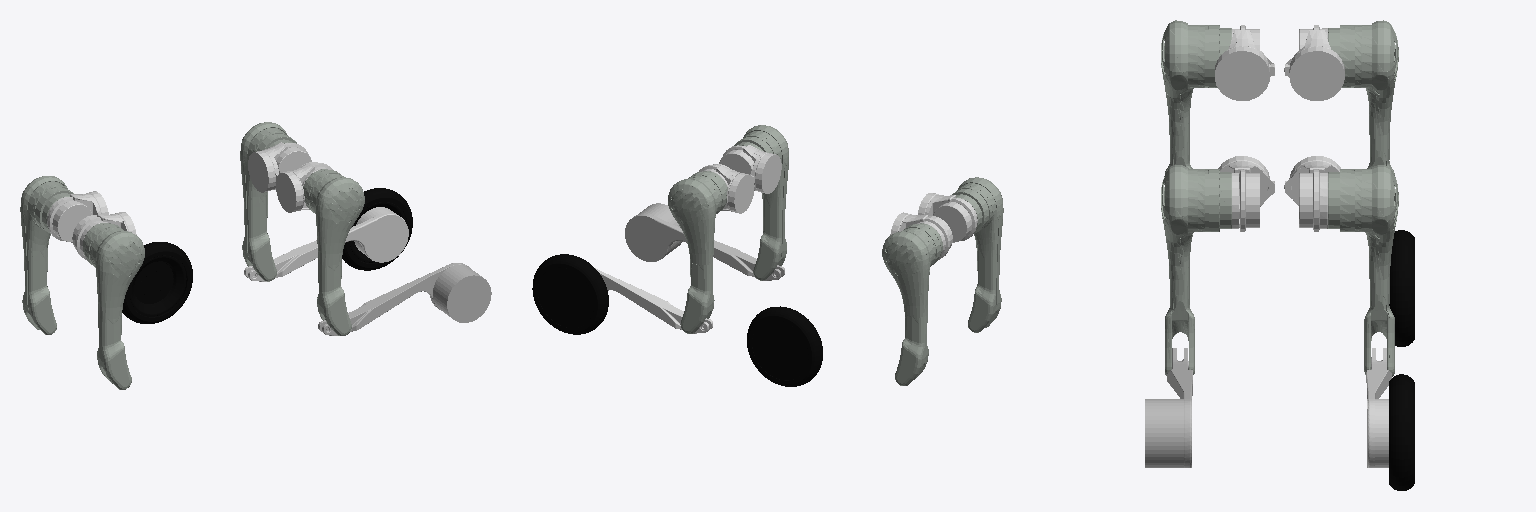
The robot description file, URDF, robot "b2w_description":
<?xml version='1.0' encoding='utf-8'?>
<robot name="b2w_description">
  <link name="base">
    <inertial>
      <origin xyz="0.000458 0.005261 0.000665" rpy="0 0 0" />
      <mass value="35.606" />
      <inertia ixx="0.27466" ixy="-0.000622" ixz="0.00315" iyy="1.0618" iyz="-0.00139" izz="1.1825" />
    </inertial>
    <visual>
      <origin xyz="0 0 0" rpy="0 0 0" />
      <geometry>
        <mesh filename="../meshes/base.stl" />
      </geometry>
      <material name="白色logo_019-effect"><color rgba="1 1 1 1" /></material><material name="材质_041-effect"><color rgba="0 0 0 1" /></material><material name="磨砂铝合金_033-effect"><color rgba="0.85 0.85 0.85 1" /></material><material name="材质_044-effect"><color rgba="0.07323546 0.07323546 0.07323546 1" /></material><material name="材质_042-effect"><color rgba="0 0 0 1" /></material><material name="材质_040-effect"><color rgba="0 0 0 1" /></material><material name="材质_043-effect"><color rgba="0 0 0 1" /></material></visual>
    <collision>
      <origin xyz="0 0 0" rpy="0 0 0" />
        <geometry>
          <box size="0.5 0.28 0.15" />
        </geometry>
    </collision>
  </link>
  <link name="lidar_link">
    <inertial>
      <origin xyz="0.34218 0 0.17851" rpy="0 0 0" />
      <mass value="4.19E-15" />
      <inertia ixx="1.68E-27" ixy="-3.2E-45" ixz="7.68E-44" iyy="1.68E-27" iyz="-9.26E-47" izz="1.68E-27" />
    </inertial>
    <collision>
      <origin xyz="0 0 -0.02" rpy="0 0 0" />
      <geometry>
        <cylinder length="0.16" radius="0.076" />
      </geometry>
    </collision>
  </link>
  <joint name="joint_lidar" type="fixed">
    <origin xyz="0.34218 0 0.17851" rpy="0 0 0" />
    <parent link="base" />
    <child link="lidar_link" />
    <axis xyz="0 0 0" />
  </joint>
  <link name="f_dc_link">
    <inertial>
      <origin xyz="3.47E-18 0 5.55E-17" rpy="0 0 0" />
      <mass value="4.19E-15" />
      <inertia ixx="1.68E-27" ixy="-9.81E-45" ixz="-2.54E-44" iyy="1.68E-27" iyz="0" izz="1.68E-27" />
    </inertial>
  </link>
  <joint name="joint_f_dc" type="fixed">
    <origin xyz="0.42161 0.025 0.061851" rpy="-2.3562 0 -1.5708" />
    <parent link="base" />
    <child link="f_dc_link" />
    <axis xyz="0 0 0" />
  </joint>
  <link name="r_dc_link">
    <inertial>
      <origin xyz="-7.46E-16 -3.33E-16 -1.11E-15" rpy="0 0 0" />
      <mass value="4.19E-15" />
      <inertia ixx="1.68E-27" ixy="-4.31E-44" ixz="2.48E-45" iyy="1.68E-27" iyz="0" izz="1.68E-27" />
    </inertial>
  </link>
  <joint name="joint_r_dc" type="fixed">
    <origin xyz="-0.42244 -0.025 0.038026" rpy="-2.3562 0 1.5708" />
    <parent link="base" />
    <child link="r_dc_link" />
    <axis xyz="0 0 0" />
  </joint>
  <link name="imu_link">
    <inertial>
      <origin xyz="-2.02E-17 1.73E-17 -1.39E-17" rpy="0 0 0" />
      <mass value="4.19E-15" />
      <inertia ixx="1.68E-27" ixy="1.84E-44" ixz="-7.35E-44" iyy="1.68E-27" iyz="-3.67E-44" izz="1.68E-27" />
    </inertial>
  </link>
  <joint name="joint_imu" type="fixed">
    <origin xyz="0 -0.02341 0.04927" rpy="0 0 0" />
    <parent link="base" />
    <child link="imu_link" />
    <axis xyz="0 0 0" />
  </joint>
  <link name="head_Link">
    <inertial>
      <origin xyz="0.33989 -0.000168 0.12029" rpy="0 0 0" />
      <mass value="3.6885" />
      <inertia ixx="0.026455" ixy="3.15E-05" ixz="0.00166" iyy="0.029221" iyz="-3.27E-05" izz="0.010918" />
    </inertial>
    <collision>
      <origin xyz="0.41 0 0.005" rpy="0 0 0" />
      <geometry>
        <box size="0.025 0.12 0.14" />
      </geometry>
    </collision>
  </link>
  <joint name="joint_head" type="fixed" dont_collapse="true">
    <origin xyz="0 0 0" rpy="0 0 0" />
    <parent link="base" />
    <child link="head_Link" />
    <axis xyz="0 0 0" />
  </joint>
  <link name="tail_link">
    <inertial>
      <origin xyz="-0.37448 0.000488 0.006495" rpy="0 0 0" />
      <mass value="0.795" />
      <inertia ixx="0.0028118" ixy="1.95E-05" ixz="-7.87E-06" iyy="0.0047506" iyz="-1.57E-05" izz="0.0029154" />
    </inertial>
    <collision>
      <origin xyz="-0.405 0 0.005" rpy="0 0 0" />
      <geometry>
        <box size="0.025 0.12 0.14" />
      </geometry>
    </collision>
  </link>
  <joint name="joint_tail" type="fixed" dont_collapse="true">
    <origin xyz="0 0 0" rpy="0 0 0" />
    <parent link="base" />
    <child link="tail_link" />
    <axis xyz="0 0 0" />
  </joint>
  <link name="FL_hip">
    <inertial>
      <origin xyz="-0.003841 -0.009068 0" rpy="0 0 0" />
      <mass value="2.673" />
      <inertia ixx="0.0033188" ixy="7.16E-05" ixz="-3.77E-07" iyy="0.0048743" iyz="4E-09" izz="0.0037087" />
    </inertial>
    <visual>
      <origin xyz="0 0 0" rpy="0 0 0" />
      <geometry>
        <mesh filename="../meshes/FL_hip.stl" />
      </geometry>
      <material name="磨砂铝合金_008-effect"><color rgba="0.85 0.85 0.85 1" /></material></visual>
    <collision>
      <origin xyz="0 0.12 0" rpy="1.5707963267948966 0 0" />
      <geometry>
        <cylinder length="0.05" radius="0.07" />
      </geometry>
    </collision>
  </link>
  <joint name="FL_hip_joint" type="revolute">
    <origin xyz="0.3285 0.072 0" rpy="0 0 0" />
    <parent link="base" />
    <child link="FL_hip" />
    <axis xyz="1 0 0" />
    <limit lower="-0.87" upper="0.87" effort="200" velocity="23" />
  </joint>
  <link name="FL_thigh">
    <inertial>
      <origin xyz="-0.006279 -0.032049 -0.057835" rpy="0 0 0" />
      <mass value="4.536" />
      <inertia ixx="0.062299" ixy="0.00087781" ixz="-0.0036475" iyy="0.061399" iyz="0.0083537" izz="0.0081997" />
    </inertial>
    <visual>
      <origin xyz="0 0 0" rpy="0 0 0" />
      <geometry>
        <mesh filename="../meshes/FL_thigh.stl" />
      </geometry>
      <material name="磨砂铝合金_008-effect"><color rgba="0.85 0.85 0.85 1" /></material><material name="灰色硅胶_009-effect"><color rgba="0.6500053 0.68 0.6500053 1" /></material></visual>
    <collision>
      <origin xyz="-0.025 0 -0.16" rpy="0 1.57 0" />
      <geometry>
        <box size="0.32 0.0445 0.054" />
      </geometry>
    </collision>
  </link>
  <joint name="FL_thigh_joint" type="revolute">
    <origin xyz="0 0.11973 0" rpy="0 0 0" />
    <parent link="FL_hip" />
    <child link="FL_thigh" />
    <axis xyz="0 1 0" />
    <limit lower="-0.94" upper="4.69" effort="200" velocity="23" />
  </joint>
  <link name="FL_calf">
    <inertial>
      <origin xyz="0.005278 0.017301 -0.29778" rpy="0 0 0" />
      <mass value="2.2906" />
      <inertia ixx="0.029283" ixy="0.000221" ixz="-0.001064" iyy="0.030868" iyz="0.002093" izz="0.00326" />
    </inertial>
    <visual>
      <origin xyz="0 0 0" rpy="0 0 0" />
      <geometry>
        <mesh filename="../meshes/FL_calf.stl" />
      </geometry>
      <material name="磨砂铝合金_008-effect"><color rgba="0.85 0.85 0.85 1" /></material></visual>
    <collision>
      <origin xyz="0 0 0" rpy="0 0 0" />
      <geometry>
        <mesh filename="../meshes/FL_calf.stl" />
      </geometry>
    </collision>
  </link>
  <joint name="FL_calf_joint" type="revolute">
    <origin xyz="0 -8.8203E-05 -0.35" rpy="0 0 0" />
    <parent link="FL_thigh" />
    <child link="FL_calf" />
    <axis xyz="0 1 0" />
    <limit lower="-2.82" upper="-0.43" effort="320" velocity="14" />
  </joint>
  <link name="FL_foot">
    <inertial>
      <origin xyz="-0.000991 0.051053 -0.00113" rpy="0 0 0" />
      <mass value="1.083" />
      <inertia ixx="0.004121" ixy="6E-06" ixz="-4.8E-05" iyy="0.007776" iyz="7E-06" izz="0.004108" />
    </inertial>
    <visual>
      <origin xyz="0 0 0" rpy="0 0 0" />
      <geometry>
        <mesh filename="../meshes/Left_wheel.stl" />
      </geometry>
      <material name="silicone-effect"><color rgba="0.073 0.073 0.073 1" /></material></visual>
    <collision>
      <origin xyz="0 0 0" rpy="0 0 0" />
      <geometry>
        <mesh filename="../meshes/Left_wheel.stl" />
      </geometry>
    </collision>
  </link>
  <joint name="FL_foot_joint" type="revolute">
    <origin xyz="0 0 -0.35" rpy="0 0 0" />
    <parent link="FL_calf" />
    <child link="FL_foot" />
    <axis xyz="0 1 0" />
    <limit lower="-999999" upper="999999" effort="20" velocity="50" />
  </joint>
  <link name="FR_hip">
    <inertial>
      <origin xyz="-0.003841 0.009068 0" rpy="0 0 0" />
      <mass value="2.673" />
      <inertia ixx="0.003318772" ixy="-7.16E-05" ixz="-3.77E-07" iyy="0.004874327" iyz="-4E-09" izz="0.003708731" />
    </inertial>
    <visual>
      <origin xyz="0 0 0" rpy="0 0 0" />
      <geometry>
        <mesh filename="../meshes/FR_hip.stl" />
      </geometry>
      <material name="磨砂铝合金_008-effect"><color rgba="0.85 0.85 0.85 1" /></material></visual>
    <collision>
      <origin xyz="0 -0.12 0" rpy="1.5707963267948966 0 0" />
      <geometry>
        <cylinder length="0.05" radius="0.07" />
      </geometry>
    </collision>
  </link>
  <joint name="FR_hip_joint" type="revolute">
    <origin xyz="0.3285 -0.072 0" rpy="0 0 0" />
    <parent link="base" />
    <child link="FR_hip" />
    <axis xyz="1 0 0" />
    <limit lower="-0.87" upper="0.87" effort="200" velocity="23" />
  </joint>
  <link name="FR_thigh">
    <inertial>
      <origin xyz="-0.006279 0.032049 -0.057835" rpy="0 0 0" />
      <mass value="4.536" />
      <inertia ixx="0.06229908" ixy="-0.000877808" ixz="-0.003647464" iyy="0.06139927" iyz="-0.008353671" izz="0.008199745" />
    </inertial>
    <visual>
      <origin xyz="0 0 0" rpy="0 0 0" />
      <geometry>
        <mesh filename="../meshes/FR_thigh.stl" />
      </geometry>
      <material name="磨砂铝合金_008-effect"><color rgba="0.85 0.85 0.85 1" /></material><material name="灰色硅胶_009-effect"><color rgba="0.6500053 0.68 0.6500053 1" /></material></visual>
    <collision>
      <origin rpy="0 1.57 0" xyz="-0.03 0 -0.2" />
      <geometry>
        <box size="0.25 0.028 0.04" />
      </geometry>
    </collision>
  </link>
  <joint name="FR_thigh_joint" type="revolute">
    <origin xyz="0 -0.11973 0" rpy="0 0 0" />
    <parent link="FR_hip" />
    <child link="FR_thigh" />
    <axis xyz="0 1 0" />
    <limit lower="-0.94" upper="4.69" effort="200" velocity="23" />
  </joint>
  <link name="FR_calf">
    <inertial>
      <origin xyz="0.005278 -0.017301 -0.297775" rpy="0 0 0" />
      <mass value="2.290557" />
      <inertia ixx="0.029283" ixy="-0.000221" ixz="-0.001064" iyy="0.030868" iyz="-0.002093" izz="0.00326" />
    </inertial>
    <visual>
      <origin xyz="0 0 0" rpy="0 0 0" />
      <geometry>
        <mesh filename="../meshes/FR_calf.stl" />
      </geometry>
      <material name="磨砂铝合金_031-effect"><color rgba="0.7487598 0.7487598 0.7487598 1" /></material></visual>
    <collision>
      <origin xyz="0 0 0" rpy="0 0 0" />
      <geometry>
        <mesh filename="../meshes/FR_calf.stl" />
      </geometry>
    </collision>
  </link>
  <joint name="FR_calf_joint" type="revolute">
    <origin xyz="0 8.8205E-05 -0.35" rpy="0 0 0" />
    <parent link="FR_thigh" />
    <child link="FR_calf" />
    <axis xyz="0 1 0" />
    <limit lower="-2.82" upper="-0.43" effort="320" velocity="14" />
  </joint>
  <link name="FR_foot">
    <inertial>
      <origin xyz="-0.000991 -0.051053 -0.00113" rpy="0 0 0" />
      <mass value="1.083" />
      <inertia ixx="0.004121" ixy="-6E-06" ixz="-4.8E-05" iyy="0.007776" iyz="-7E-06" izz="0.004108" />
    </inertial>
    <visual>
      <origin xyz="0.0 -0.0 0" rpy="0 -1.5708 0" />
      <geometry>
        <mesh filename="../meshes/Right_wheel.stl" />

        <!-- <cylinder radius="0.112" length="0.05"/>  -->
 
      </geometry>
      <material name="silicone-effect"><color rgba="0.073 0.073 0.073 1" /></material></visual>
    <collision>
      <origin xyz="0.0 -0.0 0" rpy="0 -1.5708 0" />
      <geometry>
        <mesh filename="../meshes/Right_wheel.stl" />

        <!-- <cylinder radius="0.112" length="0.05"/>  -->
 
      </geometry>
    </collision>
  </link>
  <joint name="FR_foot_joint" type="revolute">
    <origin xyz="0 -0.001 -0.35" rpy="0 0 0" />
    <parent link="FR_calf" />
    <child link="FR_foot" />
    <axis xyz="0 1 0" />
    <limit lower="-999999" upper="999999" effort="20" velocity="50" />
  </joint>
  <link name="RL_hip">
    <inertial>
      <origin xyz="0.003841 -0.009068 0" rpy="0 0 0" />
      <mass value="2.673" />
      <inertia ixx="0.0033188" ixy="-7.16E-05" ixz="3.77E-07" iyy="0.0048743" iyz="4E-09" izz="0.0037087" />
    </inertial>
    <visual>
      <origin xyz="0 0 0" rpy="0 0 0" />
      <geometry>
        <mesh filename="../meshes/RL_hip.stl" />
      </geometry>
      <material name="磨砂铝合金_008-effect"><color rgba="0.85 0.85 0.85 1" /></material></visual>
    <collision>
      <origin xyz="0 0.12 0" rpy="1.5707963267948966 0 0" />
      <geometry>
        <cylinder length="0.05" radius="0.07" />
      </geometry>
    </collision>
  </link>
  <joint name="RL_hip_joint" type="revolute">
    <origin xyz="-0.3285 0.072 0" rpy="0 0 0" />
    <parent link="base" />
    <child link="RL_hip" />
    <axis xyz="1 0 0" />
    <limit lower="-0.87" upper="0.87" effort="200" velocity="23" />
  </joint>
  <link name="RL_thigh">
    <inertial>
      <origin xyz="-0.006279 -0.032049 -0.057835" rpy="0 0 0" />
      <mass value="4.536" />
      <inertia ixx="0.06229908" ixy="0.000877808" ixz="-0.003647464" iyy="0.06139927" iyz="0.008353671" izz="0.008199745" />
    </inertial>
    <visual>
      <origin xyz="0 0 0" rpy="0 0 0" />
      <geometry>
        <mesh filename="../meshes/RL_thigh.stl" />
      </geometry>
      <material name="磨砂铝合金_008-effect"><color rgba="0.85 0.85 0.85 1" /></material><material name="灰色硅胶_009-effect"><color rgba="0.6500053 0.68 0.6500053 1" /></material></visual>
    <collision>
      <origin rpy="0 1.57 0" xyz="-0.03 0 -0.2" />
      <geometry>
        <box size="0.25 0.028 0.04" />
      </geometry>
    </collision>
  </link>
  <joint name="RL_thigh_joint" type="revolute">
    <origin xyz="0 0.11973 0" rpy="0 0 0" />
    <parent link="RL_hip" />
    <child link="RL_thigh" />
    <axis xyz="0 1 0" />
    <limit lower="-0.94" upper="4.69" effort="200" velocity="23" />
  </joint>
  <link name="RL_calf">
    <inertial>
      <origin xyz="0.005278 0.017301 -0.29778" rpy="0 0 0" />
      <mass value="2.2906" />
      <inertia ixx="0.029283" ixy="0.000221" ixz="-0.001064" iyy="0.030868" iyz="0.002093" izz="0.00326" />
    </inertial>
    <visual>
      <origin xyz="0 0 0" rpy="0 0 0" />
      <geometry>
        <mesh filename="../meshes/RL_calf.stl" />
      </geometry>
      <material name="磨砂铝合金_008-effect"><color rgba="0.85 0.85 0.85 1" /></material></visual>
    <collision>
      <origin xyz="0 0 0" rpy="0 0 0" />
      <geometry>
        <mesh filename="../meshes/RL_calf.stl" />
      </geometry>
    </collision>
  </link>
  <joint name="RL_calf_joint" type="revolute">
    <origin xyz="0 -8.8205E-05 -0.35" rpy="0 0 0" />
    <parent link="RL_thigh" />
    <child link="RL_calf" />
    <axis xyz="0 1 0" />
    <limit lower="-2.82" upper="-0.43" effort="320" velocity="14" />
  </joint>
  <link name="RL_foot">
    <inertial>
      <origin xyz="-0.000991 0.051053 -0.00113" rpy="0 0 0" />
      <mass value="1.083" />
      <inertia ixx="0.004121" ixy="6E-06" ixz="-4.8E-05" iyy="0.007776" iyz="7E-06" izz="0.004108" />
    </inertial>
    <visual>
      <origin xyz="0 0 0" rpy="0 0 0" />
      <geometry>
        <mesh filename="../meshes/Left_wheel.stl" />
      </geometry>
      <material name="silicone-effect"><color rgba="0.073 0.073 0.073 1" /></material></visual>
    <collision>
      <origin xyz="0 0 0" rpy="0 0 0" />
      <geometry>
        <mesh filename="../meshes/Left_wheel.stl" />
      </geometry>
    </collision>
  </link>
  <joint name="RL_foot_joint" type="revolute">
    <origin xyz="0 0 -0.35" rpy="0 0 0" />
    <parent link="RL_calf" />
    <child link="RL_foot" />
    <axis xyz="0 1 0" />
    <limit lower="-999999" upper="999999" effort="20" velocity="50" />
  </joint>
  <link name="RR_hip">
    <inertial>
      <origin xyz="0.003841 0.009068 0" rpy="0 0 0" />
      <mass value="2.673" />
      <inertia ixx="0.0033188" ixy="7.16E-05" ixz="3.77E-07" iyy="0.0048743" iyz="-4E-09" izz="0.0037087" />
    </inertial>
    <visual>
      <origin xyz="0 0 0" rpy="0 0 0" />
      <geometry>
        <mesh filename="../meshes/RR_hip.stl" />
      </geometry>
      <material name="磨砂铝合金_008-effect"><color rgba="0.85 0.85 0.85 1" /></material></visual>
    <collision>
      <origin xyz="0 -0.12 0" rpy="1.5707963267948966 0 0" />
      <geometry>
        <cylinder length="0.05" radius="0.07" />
      </geometry>
    </collision>
  </link>
  <joint name="RR_hip_joint" type="revolute">
    <origin xyz="-0.3285 -0.072 0" rpy="0 0 0" />
    <parent link="base" />
    <child link="RR_hip" />
    <axis xyz="1 0 0" />
    <limit lower="-0.87" upper="0.87" effort="200" velocity="23" />
  </joint>
  <link name="RR_thigh">
    <inertial>
      <origin xyz="-0.006279 0.032049 -0.057835" rpy="0 0 0" />
      <mass value="4.536" />
      <inertia ixx="0.062299" ixy="-0.00087781" ixz="-0.0036475" iyy="0.061399" iyz="-0.0083537" izz="0.0081997" />
    </inertial>
    <visual>
      <origin xyz="0 0 0" rpy="0 0 0" />
      <geometry>
        <mesh filename="../meshes/RR_thigh.stl" />
      </geometry>
      <material name="磨砂铝合金_008-effect"><color rgba="0.85 0.85 0.85 1" /></material><material name="灰色硅胶_009-effect"><color rgba="0.6500053 0.68 0.6500053 1" /></material></visual>
    <collision>
      <origin rpy="0 1.57 0" xyz="-0.03 0 -0.2" />
      <geometry>
        <box size="0.25 0.028 0.04" />
      </geometry>
    </collision>
  </link>
  <joint name="RR_thigh_joint" type="revolute">
    <origin xyz="0 -0.11973 0" rpy="0 0 0" />
    <parent link="RR_hip" />
    <child link="RR_thigh" />
    <axis xyz="0 1 0" />
    <limit lower="-0.94" upper="4.69" effort="200" velocity="23" />
  </joint>
  <link name="RR_calf">
    <inertial>
      <origin xyz="0.005278 -0.017301 -0.29778" rpy="0 0 0" />
      <mass value="2.2906" />
      <inertia ixx="0.029283" ixy="-0.000221" ixz="-0.001064" iyy="0.030868" iyz="-0.002093" izz="0.00326" />
    </inertial>
    <visual>
      <origin xyz="0 0 0" rpy="0 0 0" />
      <geometry>
        <mesh filename="../meshes/RR_calf.stl" />
      </geometry>
      <material name="磨砂铝合金_031-effect"><color rgba="0.7487598 0.7487598 0.7487598 1" /></material></visual>
    <collision>
      <origin xyz="0 0 0" rpy="0 0 0" />
      <geometry>
        <mesh filename="../meshes/RR_calf.stl" />
      </geometry>
    </collision>
  </link>
  <joint name="RR_calf_joint" type="revolute">
    <origin xyz="0 8.8205E-05 -0.35" rpy="0 0 0" />
    <parent link="RR_thigh" />
    <child link="RR_calf" />
    <axis xyz="0 1 0" />
    <limit lower="-2.82" upper="-0.43" effort="320" velocity="14" />
  </joint>
  <link name="RR_foot">
    <inertial>
      <origin xyz="-0.000991 -0.051053 -0.00113" rpy="0 0 0" />
      <mass value="1.083" />
      <inertia ixx="0.004121" ixy="-6E-06" ixz="-4.8E-05" iyy="0.007776" iyz="-7E-06" izz="0.004108" />
    </inertial>
    <visual>
      <origin xyz="0.0 -0 0" rpy="0 -1.5708 0" />
      <geometry>
        <mesh filename="../meshes/Right_wheel.stl" />
        
        <!-- <cylinder radius="0.112" length="0.05"/> 根据轮子半径和厚度修改 -->
 
      </geometry>
      <material name="silicone-effect"><color rgba="0.073 0.073 0.073 1" /></material></visual>
    <collision>
      <origin xyz="0.0 -0 0" rpy="0 -1.5708 0" />
      <geometry>
        <mesh filename="../meshes/Right_wheel.stl" />

        <!-- <cylinder radius="0.112" length="0.05"/>  -->
 
      </geometry>
    </collision>
  </link>
  <joint name="RR_foot_joint" type="revolute">
    <origin xyz="0 -0.001 -0.35" rpy="0 0 0" />
    <parent link="RR_calf" />
    <child link="RR_foot" />
    <axis xyz="0 1 0" />
    <limit lower="-999999" upper="999999" effort="20" velocity="50" />
  </joint>
  <link name="f_oc_link">
    <inertial>
      <origin xyz="-3.39E-15 1.46E-16 -6.11E-16" rpy="0 0 0" />
      <mass value="4.19E-15" />
      <inertia ixx="1.68E-27" ixy="-3.89E-44" ixz="5.04E-44" iyy="1.68E-27" iyz="2.81E-45" izz="1.68E-27" />
    </inertial>
  </link>
  <joint name="f_oc_link" type="fixed">
    <origin xyz="0.3993 0 -0.01576" rpy="-1.5708 0 -1.5708" />
    <parent link="base" />
    <child link="f_oc_link" />
    <axis xyz="0 0 0" />
  </joint>
  <link name="logo_link">
    <inertial>
      <origin xyz="0 -2.3E-23 0" rpy="0 0 0" />
      <mass value="4.19E-15" />
      <inertia ixx="1.68E-27" ixy="0" ixz="0" iyy="1.68E-27" iyz="0" izz="1.68E-27" />
    </inertial>
  </link>
  <joint name="joint_logo" type="fixed">
    <origin xyz="0 0 0" rpy="0 0 0" />
    <parent link="base" />
    <child link="logo_link" />
    <axis xyz="0 0 0" />
  </joint>
  <link name="r_oc_ink">
    <inertial>
      <origin xyz="-0.39143 1.52E-07 -0.011961" rpy="0 0 0" />
      <mass value="4.19E-12" />
      <inertia ixx="1.68E-22" ixy="9.03E-39" ixz="0" iyy="1.68E-22" iyz="-1.2E-38" izz="1.68E-22" />
    </inertial>
  </link>
  <joint name="joint_r_oc" type="fixed">
    <origin xyz="-0.39143 0 -0.026131" rpy="-1.5708 0 1.5708" />
    <parent link="base" />
    <child link="r_oc_ink" />
    <axis xyz="0 0 0" />
  </joint>
</robot>

--- Render facts (derived) ---
Views: 3 orthographic renders of the robot side by side, from view 1: azimuth 30°, elevation 25°; view 2: azimuth 150°, elevation 25°; view 3: azimuth 270°, elevation 25°.
Model b2w_description with 26 links and 25 joints (16 revolute, 9 fixed), rooted at base, posed joints at zero except 4 at the middle of their limits (FL_calf_joint = -1.62, FR_calf_joint = -1.62, RL_calf_joint = -1.62, RR_calf_joint = -1.62).
Links seen in each view (by area): view 1: RR_thigh, FR_thigh, FR_calf, RL_thigh, RL_foot, FL_thigh, FL_calf, FL_hip, RL_hip, FL_foot, FR_hip, RR_hip; view 2: RL_thigh, FL_thigh, FL_foot, RL_foot, RR_thigh, FR_calf, FR_thigh, FR_hip, RR_hip, FL_calf, FL_hip, RL_hip; view 3: FL_thigh, FR_thigh, RR_thigh, RL_thigh, FR_calf, RL_hip, RR_hip, FL_foot, FL_hip, RL_foot, FR_hip, FL_calf.
Boxes of the visible links, x1,y1,x2,y2 form: RR_thigh: (82,223,144,389); FR_thigh: (303,169,364,335); FR_calf: (318,263,491,335); RL_thigh: (20,176,73,334); RL_foot: (122,242,192,323); FL_thigh: (240,122,296,281); FL_calf: (244,207,408,281); FL_hip: (248,142,311,192); RL_hip: (47,191,108,242); FL_foot: (342,188,412,270); FR_hip: (276,162,332,212); RR_hip: (72,212,136,259); RL_thigh: (882,223,942,385); FL_thigh: (668,171,727,333); FL_foot: (532,254,608,334); RL_foot: (747,306,822,386); RR_thigh: (952,177,1003,332); FR_calf: (625,203,784,280); FR_thigh: (734,125,788,280); FR_hip: (719,145,781,193); RR_hip: (918,193,977,242); FL_calf: (595,268,712,333); FL_hip: (699,164,754,213); RL_hip: (890,212,952,259); FL_thigh: (1328,165,1398,376); FR_thigh: (1161,165,1231,375); RR_thigh: (1161,20,1231,173); RL_thigh: (1328,20,1398,174); FR_calf: (1145,348,1192,467); RL_hip: (1284,25,1344,100); RR_hip: (1215,25,1274,100); FL_foot: (1389,374,1414,490); FL_hip: (1284,156,1340,231); RL_foot: (1389,230,1414,346); FR_hip: (1218,156,1274,231); FL_calf: (1366,348,1391,467).
Bounding box of the posed robot: 1.19 × 0.5187 × 0.5124 m (x, y, z).
12 mesh visuals loaded from 15 distinct referenced files (11 binary STL); not drawn: 5 (reference not matched to a file when rendering).
